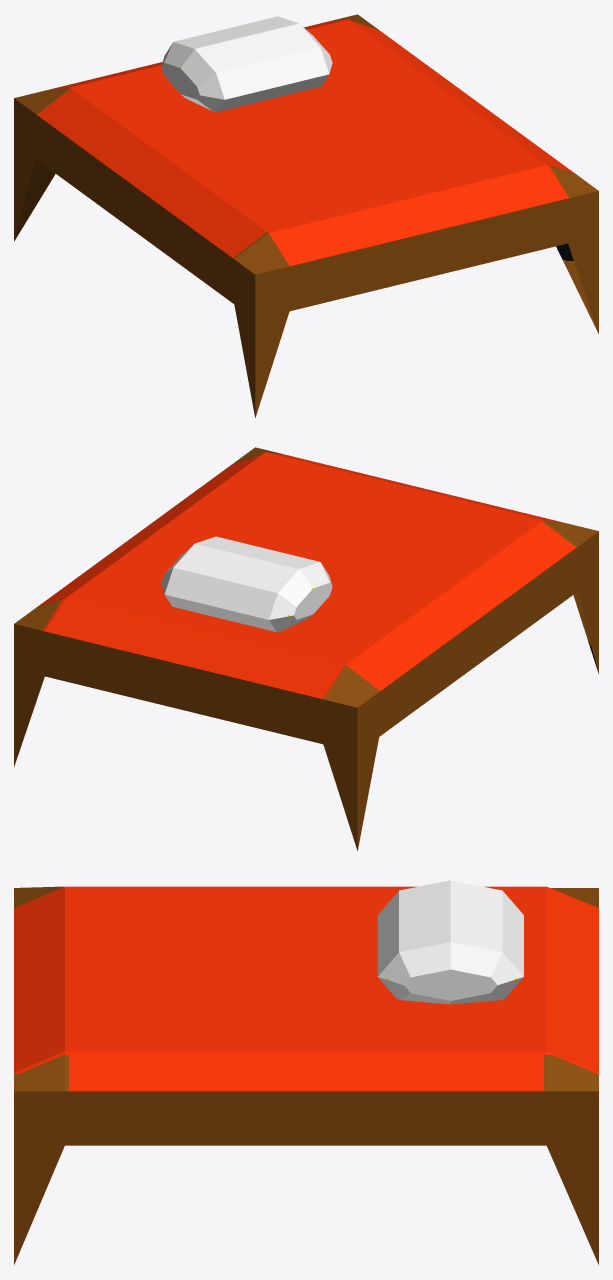
The model's file is HubBed.glb.
3 renders of one model, top to bottom at view 1: azimuth 30°, elevation 25°; view 2: azimuth 150°, elevation 25°; view 3: azimuth 270°, elevation 25°, orthographic. The views are drawn at different scales.
Parts seen in each view (by area): view 1: Bed, Pillow; view 2: Bed, Pillow; view 3: Bed, Pillow.
Boxes of the visible parts, x1,y1,x2,y2 form: Bed: (14, 14, 598, 417); Pillow: (161, 16, 332, 111); Bed: (14, 447, 598, 850); Pillow: (161, 536, 332, 632); Bed: (14, 886, 598, 1264); Pillow: (377, 880, 523, 1004).
Bounding box in the file's own units: 2.5 × 1.45 × 3.04.
2 materials, 2 textured.
